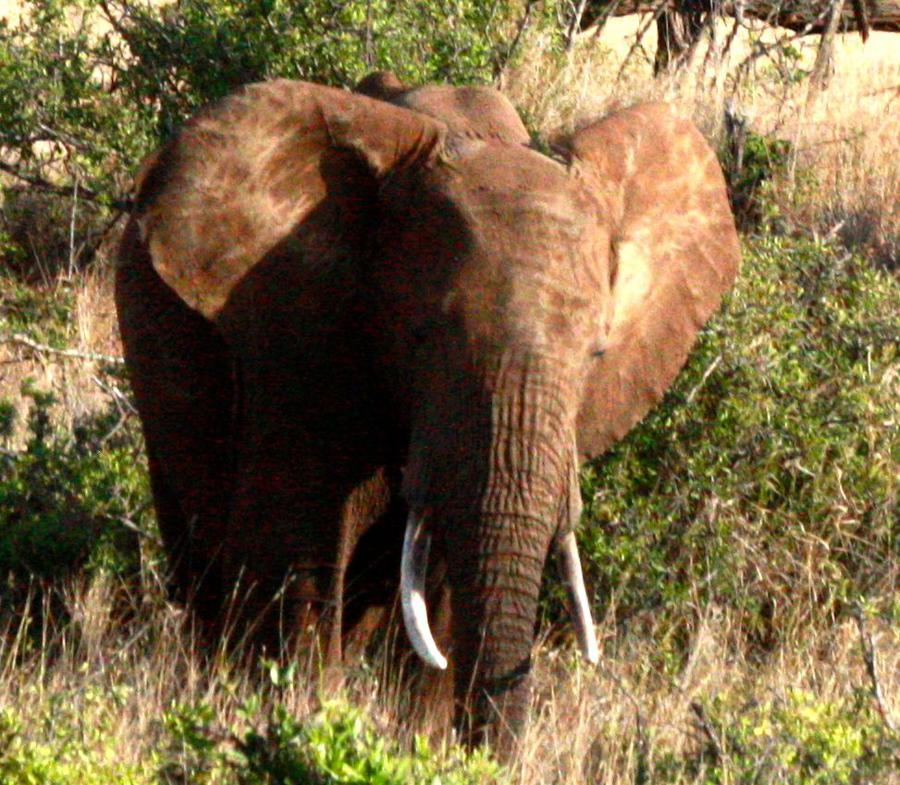elephant: (115, 74, 730, 576)
